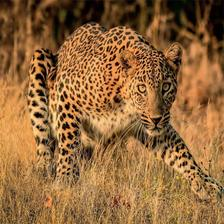Cheetah: (30, 22, 222, 201)
